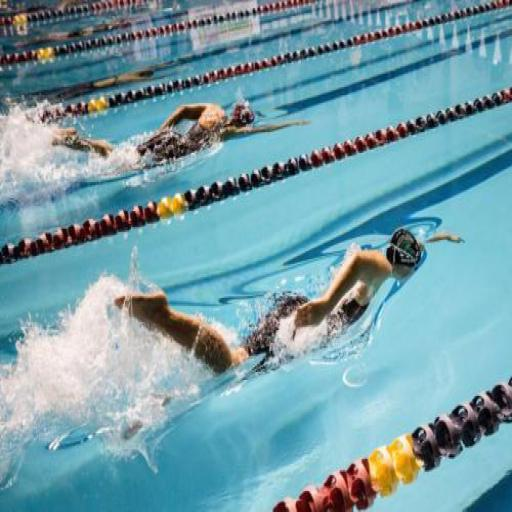swimming: (110, 224, 465, 382), (268, 372, 511, 510), (29, 95, 310, 175)
